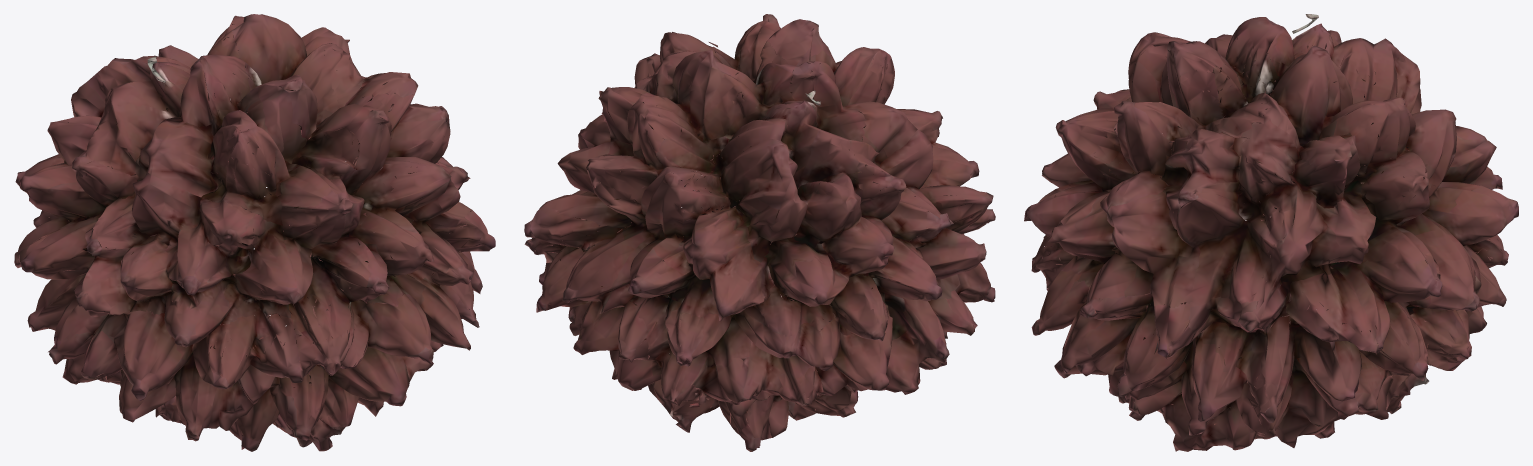
File: nypa-fruit-cluster.glb
3 views of the same model, side by side, from view 1: azimuth 30°, elevation 25°; view 2: azimuth 150°, elevation 25°; view 3: azimuth 270°, elevation 25° (orthographic). The views are drawn at different scales.
Visible parts, largest first — view 1: tripo_node_d020eed7-a3c0-4c45-ba6b-422ade664a37_0; view 2: tripo_node_d020eed7-a3c0-4c45-ba6b-422ade664a37_0; view 3: tripo_node_d020eed7-a3c0-4c45-ba6b-422ade664a37_0.
Part boxes in pixels (left/top/right/bottom): tripo_node_d020eed7-a3c0-4c45-ba6b-422ade664a37_0: left=14, top=14, right=495, bottom=451; tripo_node_d020eed7-a3c0-4c45-ba6b-422ade664a37_0: left=524, top=14, right=995, bottom=451; tripo_node_d020eed7-a3c0-4c45-ba6b-422ade664a37_0: left=1024, top=14, right=1518, bottom=451.
Size of the model in its own units: 0.9995 by 0.8739 by 0.9943.
1 material, 1 textured.
